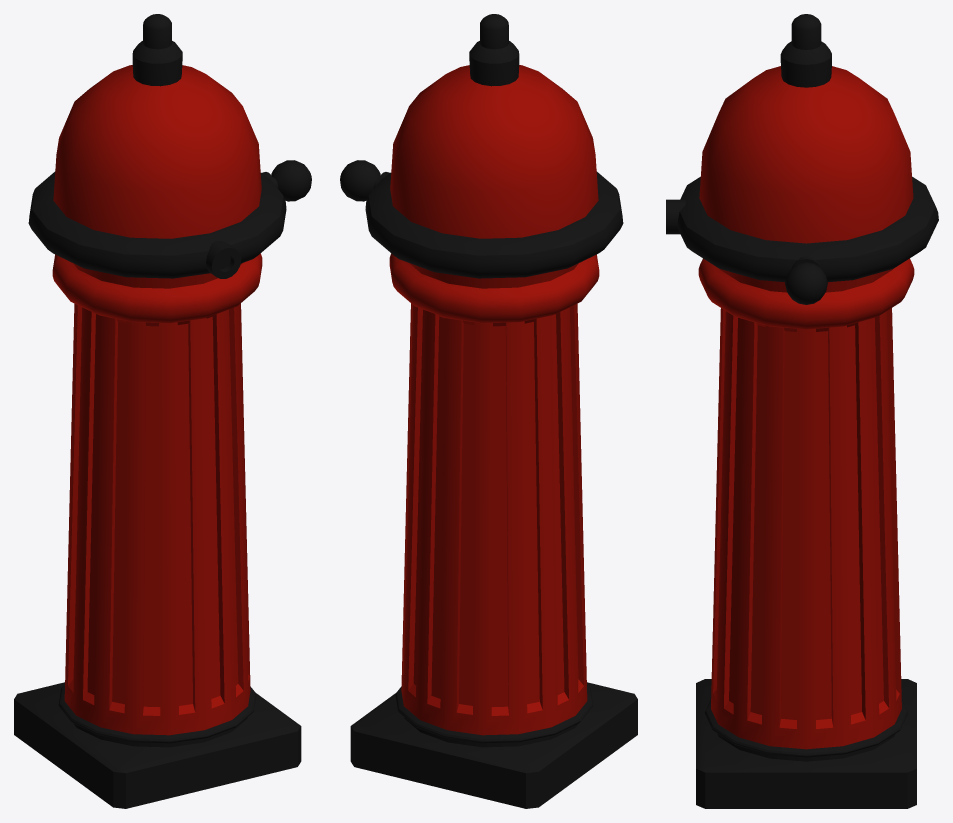
The model's file is FireHydrant.fbx.
The picture shows the model from 3 angles, left to right: view 1: azimuth 30°, elevation 25°; view 2: azimuth 150°, elevation 25°; view 3: azimuth 270°, elevation 25°; orthographic projection.
Visible parts, largest first — view 1: FireHydrant; view 2: FireHydrant; view 3: FireHydrant.
Boxes of the visible parts, <box> form: FireHydrant: <box>14,14,311,808</box>; FireHydrant: <box>340,14,637,808</box>; FireHydrant: <box>666,14,938,808</box>.
Size of the model in its own units: 61.17 by 162 by 53.67.
